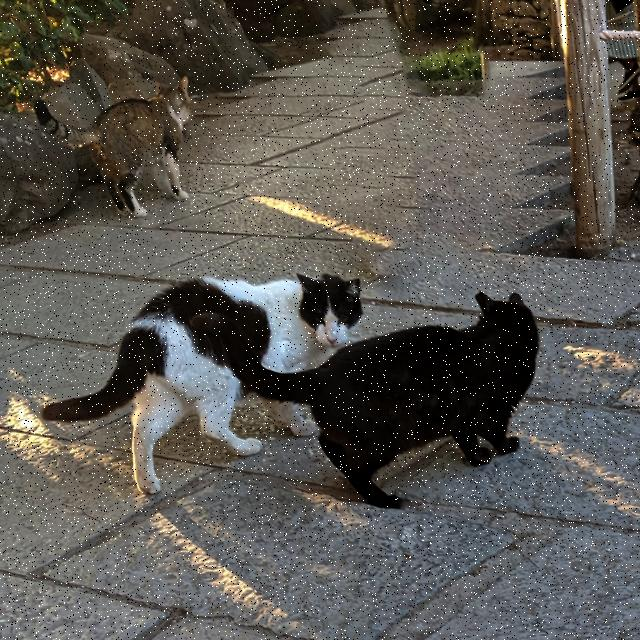cat: (190, 291, 539, 508), (42, 274, 361, 493), (35, 77, 191, 217)
